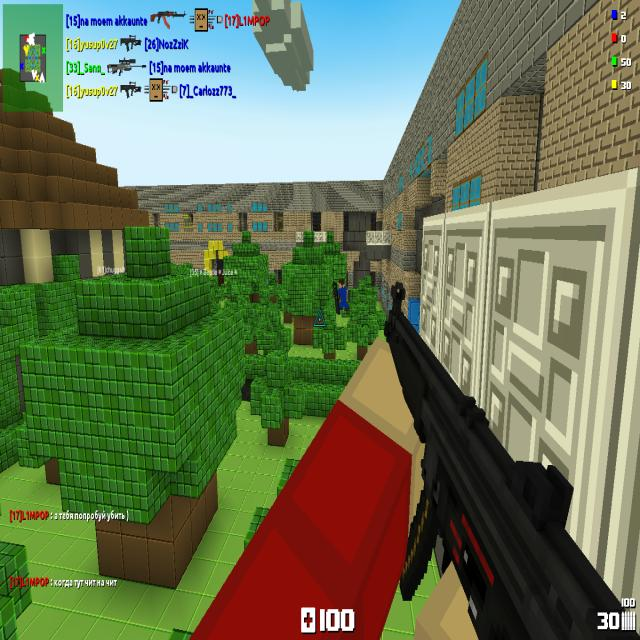enemy: (338, 278, 350, 310)
